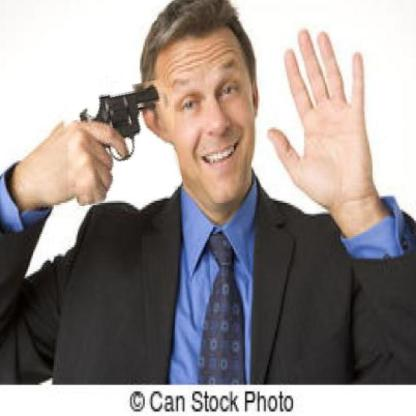handgun: (63, 83, 179, 202)
